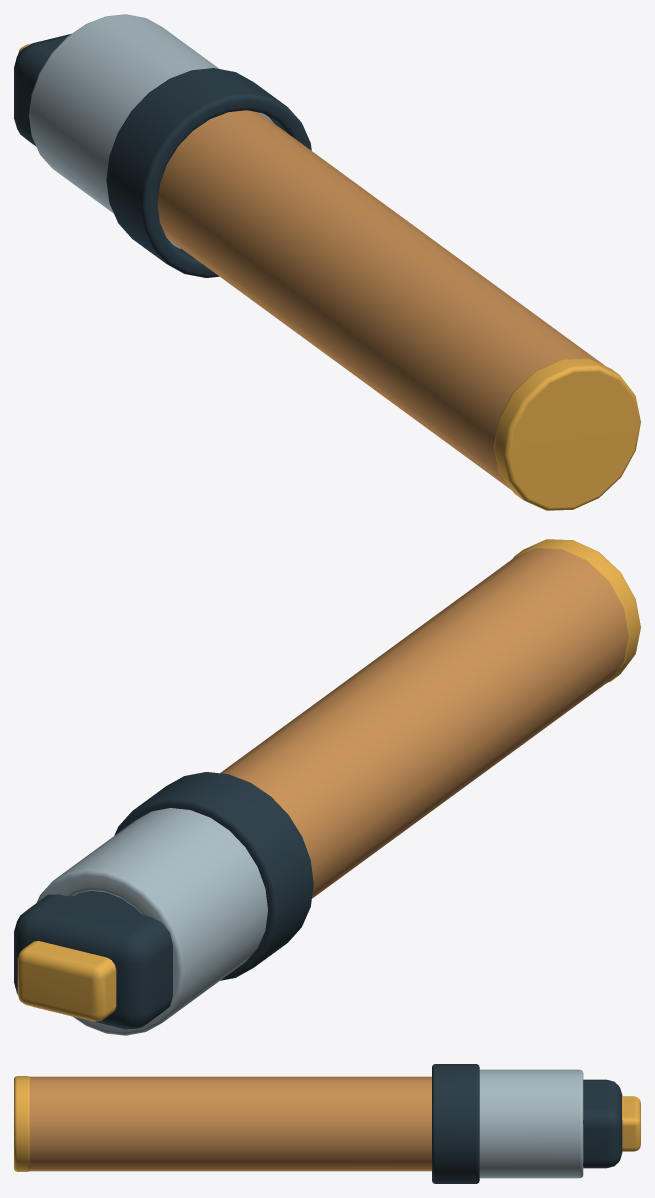
File: part_pencil_extender.glb
The picture shows the model from 3 angles, top to bottom: view 1: azimuth 30°, elevation 25°; view 2: azimuth 150°, elevation 25°; view 3: azimuth 270°, elevation 25°; orthographic projection. The views are drawn at different scales.
Parts seen in each view (by area): view 1: Wood extension handle, Hollow metal collet, End cap, Adjustment collar, Universal rubber mounting pad.019; view 2: Wood extension handle, Hollow metal collet, Adjustment collar, Universal rubber mounting pad.019, Snap-in brass tongue.019, End cap; view 3: Wood extension handle, Hollow metal collet, Adjustment collar, Universal rubber mounting pad.019, End cap, Snap-in brass tongue.019.
Part boxes in pixels (x1=…): Wood extension handle: x1=157, y1=110, x2=604, y2=489; Hollow metal collet: x1=29, y1=14, x2=273, y2=248; End cap: x1=494, y1=358, x2=640, y2=510; Adjustment collar: x1=106, y1=68, x2=311, y2=277; Universal rubber mounting pad.019: x1=14, y1=34, x2=70, y2=146; Wood extension handle: x1=220, y1=548, x2=628, y2=898; Hollow metal collet: x1=36, y1=808, x2=267, y2=1035; Adjustment collar: x1=114, y1=772, x2=313, y2=980; Universal rubber mounting pad.019: x1=14, y1=891, x2=172, y2=1029; Snap-in brass tongue.019: x1=17, y1=941, x2=116, y2=1021; End cap: x1=513, y1=539, x2=640, y2=682; Wood extension handle: x1=29, y1=1076, x2=431, y2=1171; Hollow metal collet: x1=479, y1=1069, x2=583, y2=1178; Adjustment collar: x1=432, y1=1064, x2=479, y2=1183; Universal rubber mounting pad.019: x1=583, y1=1079, x2=622, y2=1168; End cap: x1=14, y1=1076, x2=29, y2=1171; Snap-in brass tongue.019: x1=622, y1=1096, x2=640, y2=1151.
Size of the model in its own units: 0.00708 by 0.00708 by 0.0369.
